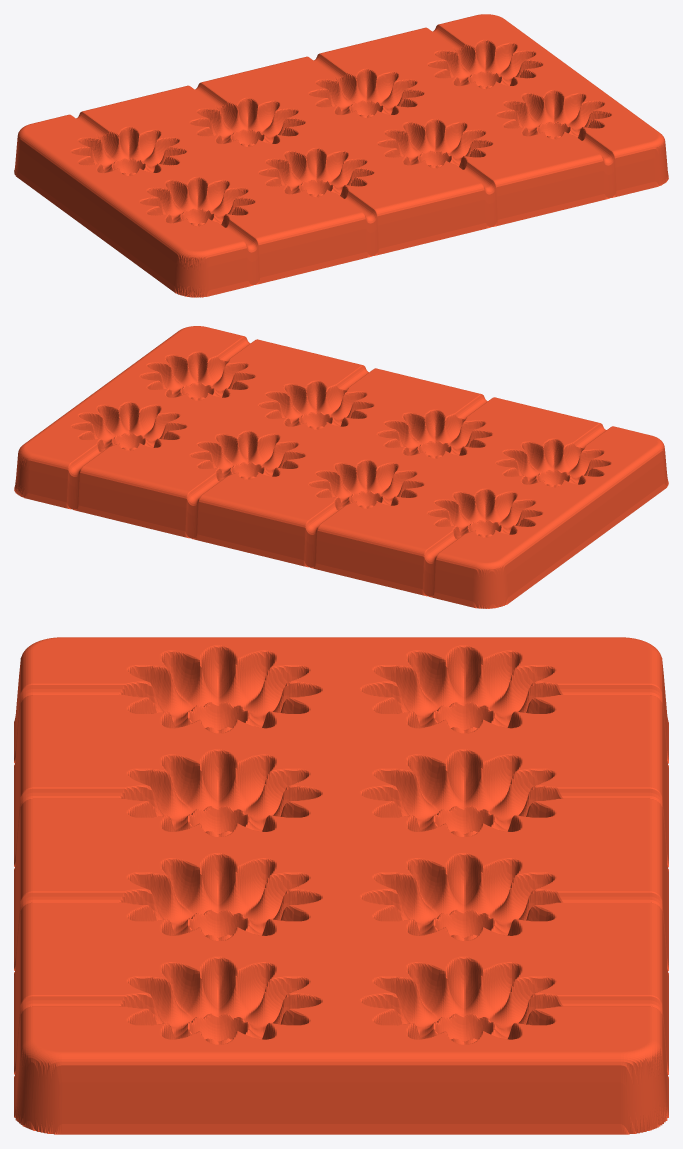
Rendered from mold.glb.
3 views of the same model, one above another, from view 1: azimuth 30°, elevation 25°; view 2: azimuth 150°, elevation 25°; view 3: azimuth 270°, elevation 25° (orthographic). The views are drawn at different scales.
Visible parts, largest first — view 1: geometry_0; view 2: geometry_0; view 3: geometry_0.
Part boxes in pixels (x1,y1,x2,y2): geometry_0: (14, 14, 668, 297); geometry_0: (14, 326, 668, 608); geometry_0: (14, 637, 668, 1134).
Size of the model in its own units: 0.1907 by 0.0155 by 0.1229.
